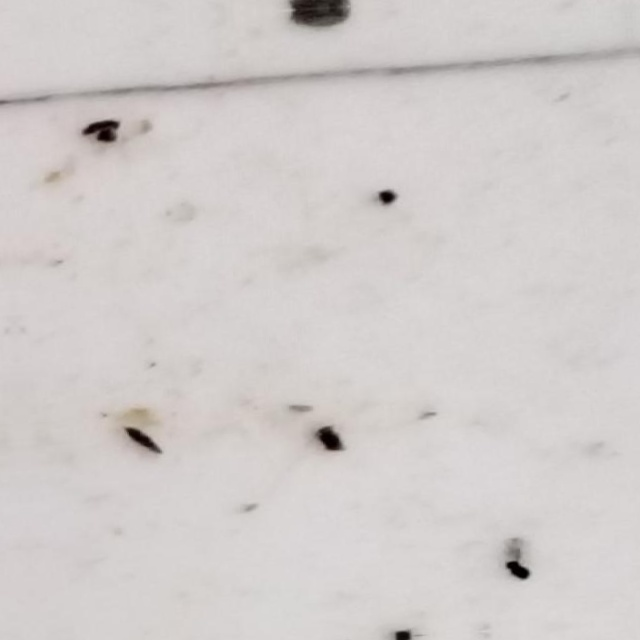varroa: (288, 6, 353, 31)
